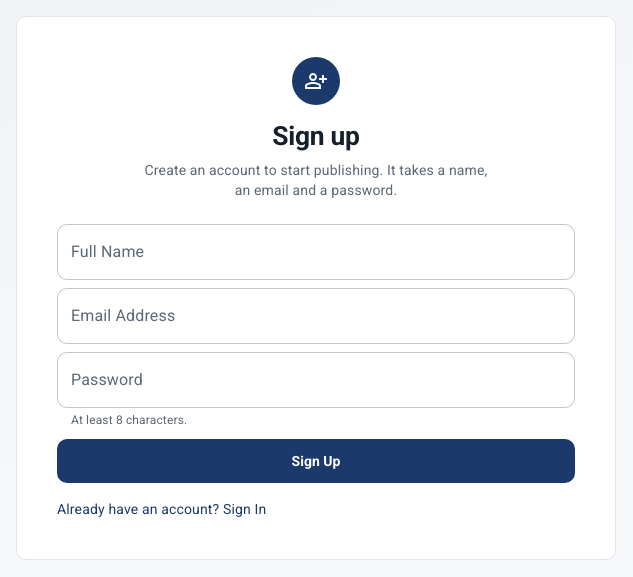
Test: <Signup /> › enforces the same password length the API does, before a round trip
The width and height of the screenshot is (633, 577).
Type "Ada Lovelace" into the field labelled "Full Name".
click(316, 252); type("Ada Lovelace")  # box [57,224,575,280]
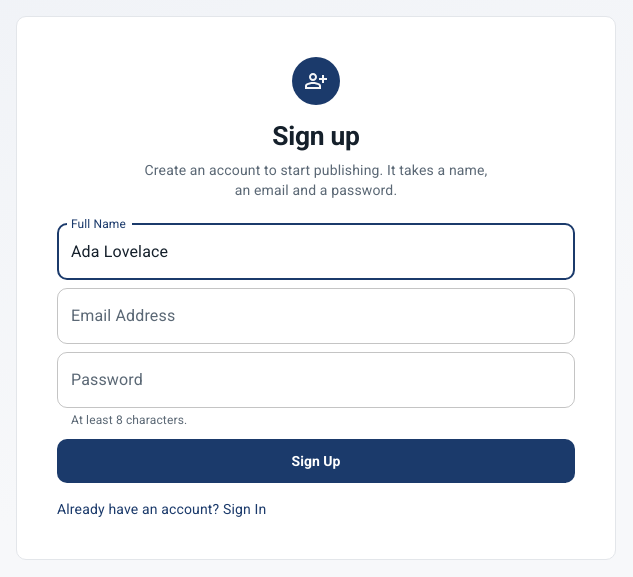
Type "ada@example.com" into the field labelled "Email Address".
click(316, 316); type("ada@example.com")  # box [57,288,575,344]
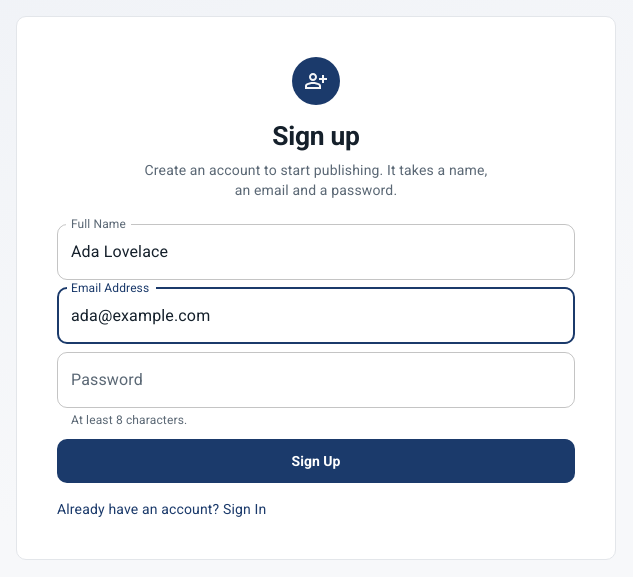
Type "short" into the password field labelled "Password".
click(316, 380); type("short")  # box [57,352,575,408]
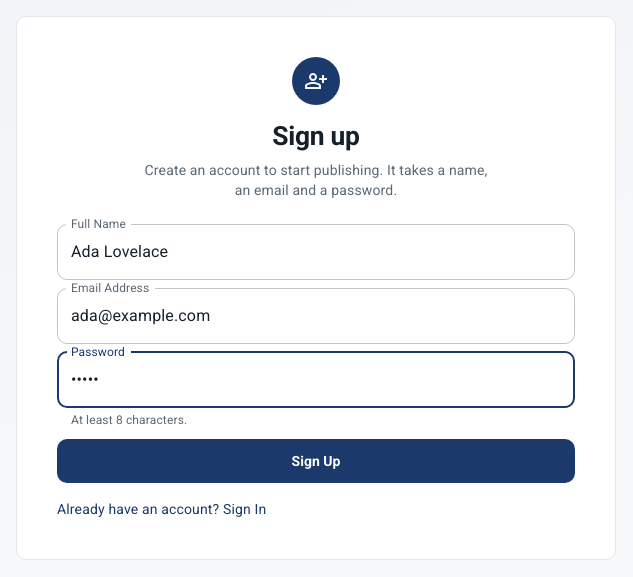
Click the button "Sign Up".
click(316, 461)  # box [57,439,575,483]
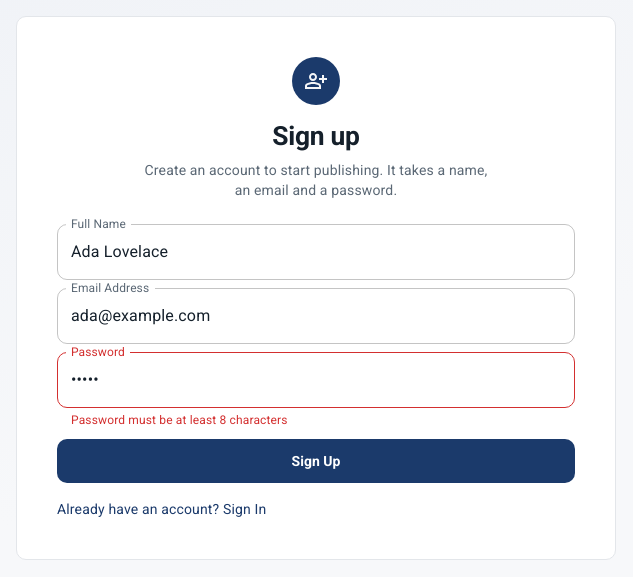
Expected: the text "Password must be at least 8 characters" is shown, [71,413,288,427]
